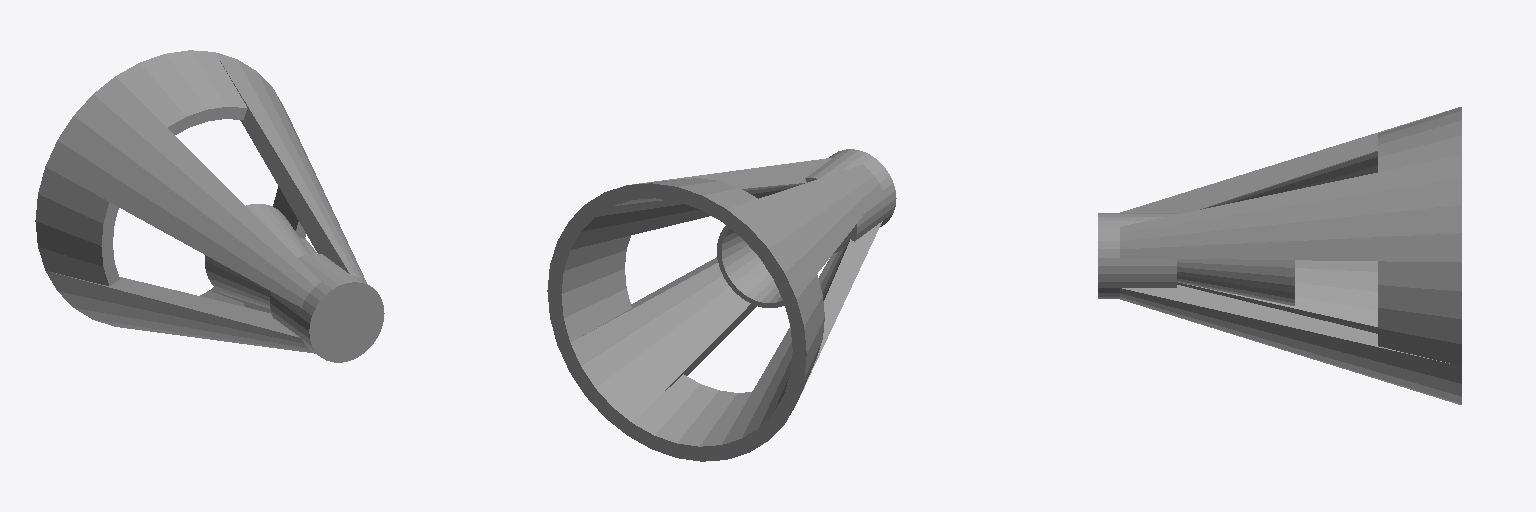
File: RR_Mossbauer_Engine_bell.obj
3 renders of one model, left to right at view 1: azimuth 30°, elevation 25°; view 2: azimuth 150°, elevation 25°; view 3: azimuth 270°, elevation 25°, orthographic.
Visible parts, largest first — view 1: Titan_Cube.004; view 2: Titan_Cube.004; view 3: Titan_Cube.004.
Boxes of the visible parts, <box> form: Titan_Cube.004: <box>35,50,384,362</box>; Titan_Cube.004: <box>547,149,896,461</box>; Titan_Cube.004: <box>1098,107,1461,404</box>.
Size of the model in its own units: 7 by 7 by 8.5.